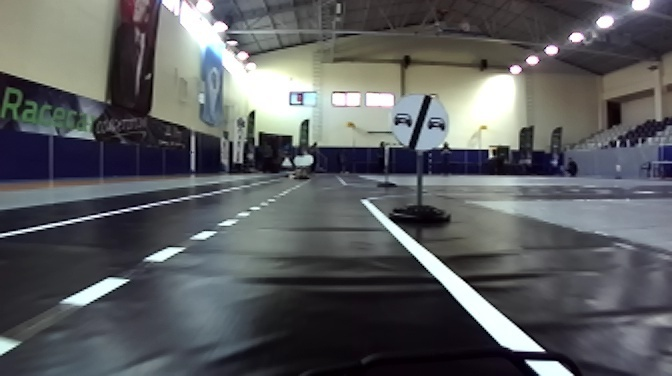sollama_serbest: (391, 92, 448, 149)
